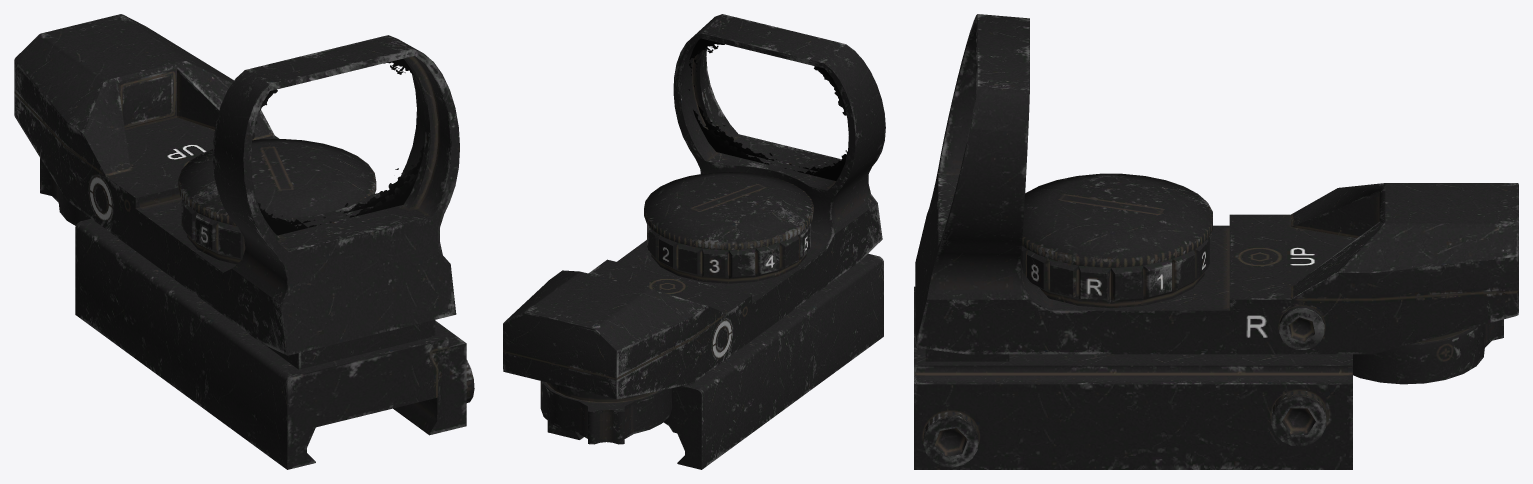
The model's file is red_dot.FBX.
The picture shows the model from 3 angles, left to right: view 1: azimuth 30°, elevation 25°; view 2: azimuth 150°, elevation 25°; view 3: azimuth 270°, elevation 25°; orthographic projection. The views are drawn at different scales.
Parts seen in each view (by area): view 1: red_dot_01; view 2: red_dot_01; view 3: red_dot_01.
Boxes of the visible parts, x1,y1,x2,y2 form: red_dot_01: [14, 14, 474, 469]; red_dot_01: [503, 14, 885, 469]; red_dot_01: [914, 14, 1518, 469].
Bounding box in the file's own units: 3.7 × 5.94 × 8.75.
